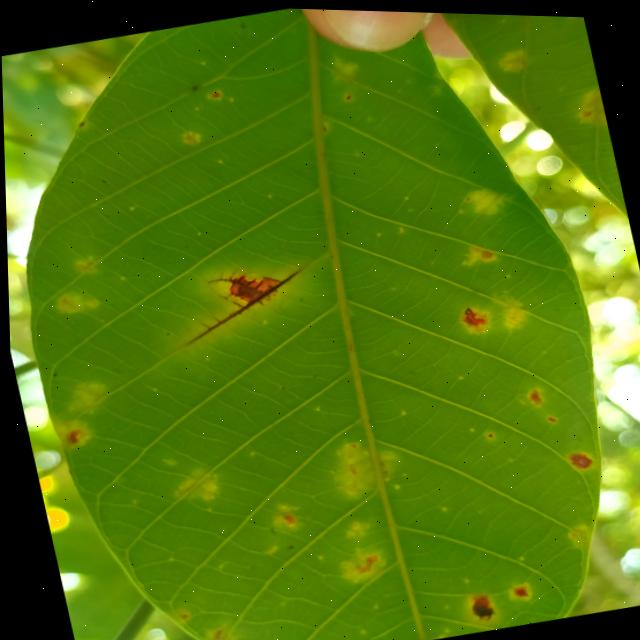Corynespora: (173, 255, 311, 348)
